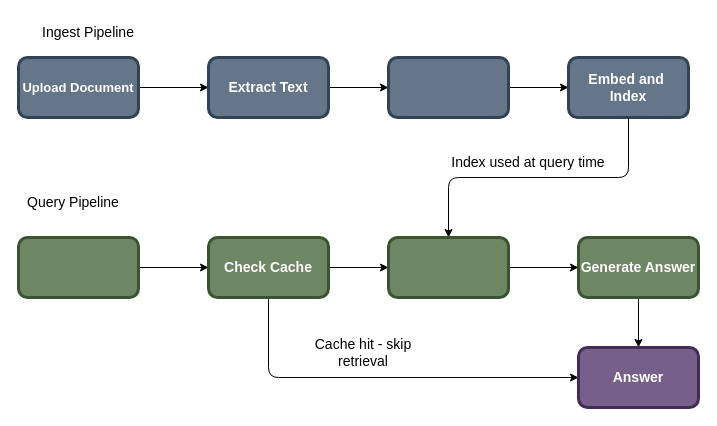
The diagram is 717 pixels wide and 426 high, and some of its shapes have lost their labels. The shapes that lost their labels are listed below. From the top down, each one's centre as x and y in pixels, then its label:
pixel 448 87: Clean and chunk
pixel 78 267: Question
pixel 448 267: Retrieve and Rerank
